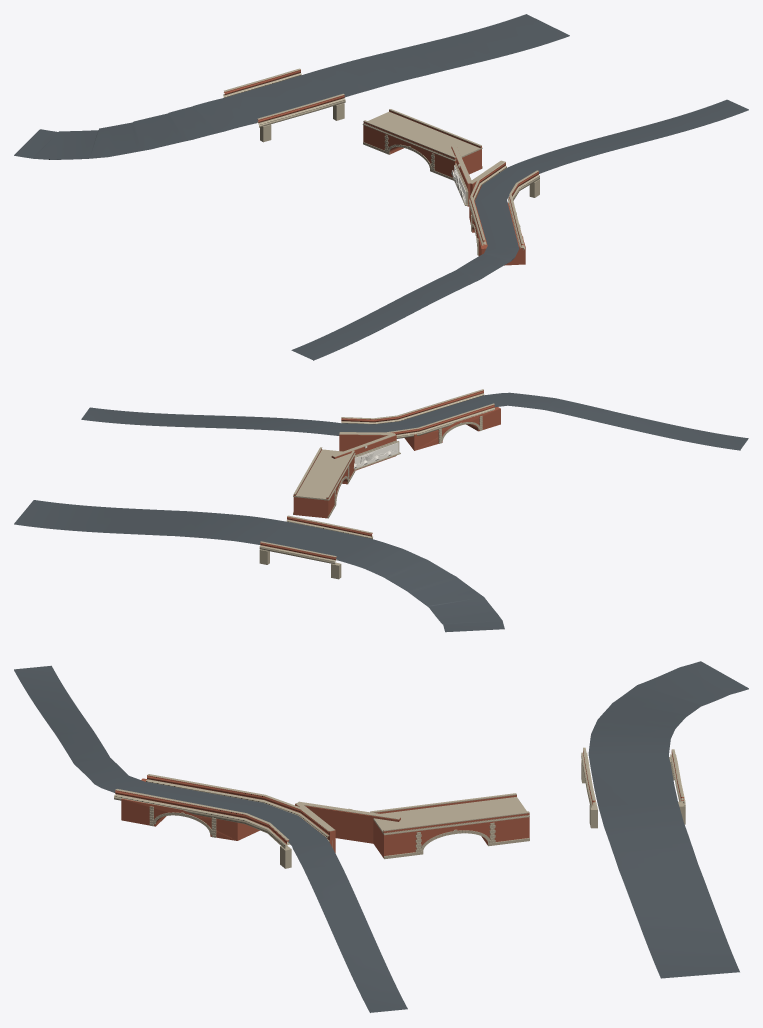
Rendered from ponts-jumeaux-near.glb.
The picture shows the model from 3 angles, top to bottom: view 1: azimuth 30°, elevation 25°; view 2: azimuth 150°, elevation 25°; view 3: azimuth 270°, elevation 25°; orthographic projection. The views are drawn at different scales.
Parts seen in each view (by area): view 1: north-ponts-jumeaux-0-asphalt, south-ponts-jumeaux-0-asphalt, heritage-ponts-jumeaux-0-stone, heritage-ponts-jumeaux-0-brick, north-ponts-jumeaux-0-stone, south-ponts-jumeaux-0-stone, south-ponts-jumeaux-0-brick, north-ponts-jumeaux-0-brick; view 2: north-ponts-jumeaux-0-asphalt, south-ponts-jumeaux-0-asphalt, heritage-ponts-jumeaux-0-stone, heritage-ponts-jumeaux-0-brick, south-ponts-jumeaux-0-brick, south-ponts-jumeaux-0-stone, north-ponts-jumeaux-0-stone, north-ponts-jumeaux-0-brick, heritage-ponts-jumeaux-0-marble; view 3: north-ponts-jumeaux-0-asphalt, south-ponts-jumeaux-0-asphalt, heritage-ponts-jumeaux-0-stone, heritage-ponts-jumeaux-0-brick, south-ponts-jumeaux-0-brick, south-ponts-jumeaux-0-stone, north-ponts-jumeaux-0-stone.
Boxes of the visible parts, x1,y1,x2,y2 form: north-ponts-jumeaux-0-asphalt: (14, 14, 569, 159); south-ponts-jumeaux-0-asphalt: (291, 99, 748, 360); heritage-ponts-jumeaux-0-stone: (362, 109, 503, 205); heritage-ponts-jumeaux-0-brick: (363, 110, 481, 206); north-ponts-jumeaux-0-stone: (223, 68, 345, 142); south-ponts-jumeaux-0-stone: (469, 161, 539, 255); south-ponts-jumeaux-0-brick: (469, 162, 538, 265); north-ponts-jumeaux-0-brick: (224, 69, 344, 122); north-ponts-jumeaux-0-asphalt: (14, 500, 504, 632); south-ponts-jumeaux-0-asphalt: (81, 392, 748, 450); heritage-ponts-jumeaux-0-stone: (293, 433, 400, 518); heritage-ponts-jumeaux-0-brick: (293, 434, 396, 518); south-ponts-jumeaux-0-brick: (341, 390, 500, 450); south-ponts-jumeaux-0-stone: (339, 389, 494, 443); north-ponts-jumeaux-0-stone: (259, 515, 372, 579); north-ponts-jumeaux-0-brick: (260, 516, 372, 560); heritage-ponts-jumeaux-0-marble: (354, 442, 398, 468); north-ponts-jumeaux-0-asphalt: (588, 661, 748, 978); south-ponts-jumeaux-0-asphalt: (14, 665, 407, 1012); heritage-ponts-jumeaux-0-stone: (295, 793, 529, 859); heritage-ponts-jumeaux-0-brick: (295, 795, 529, 858); south-ponts-jumeaux-0-brick: (115, 775, 329, 844); south-ponts-jumeaux-0-stone: (114, 774, 332, 868); north-ponts-jumeaux-0-stone: (581, 747, 685, 828).
Size of the model in its own units: 140 by 5.46 by 124.
